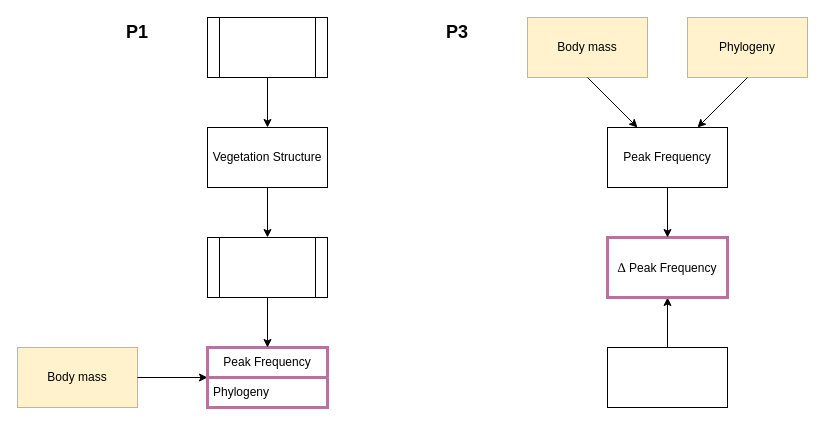
This 825x426 diagram has some shape labels left out. The shapes that lost their labels are listed below. From the top down, each one's centre as x and y in pixels, then its label:
At point (267, 47): "Succession".
At point (267, 267): "Acoustic Filtering".
At point (667, 377): "Co-occurrence type".
